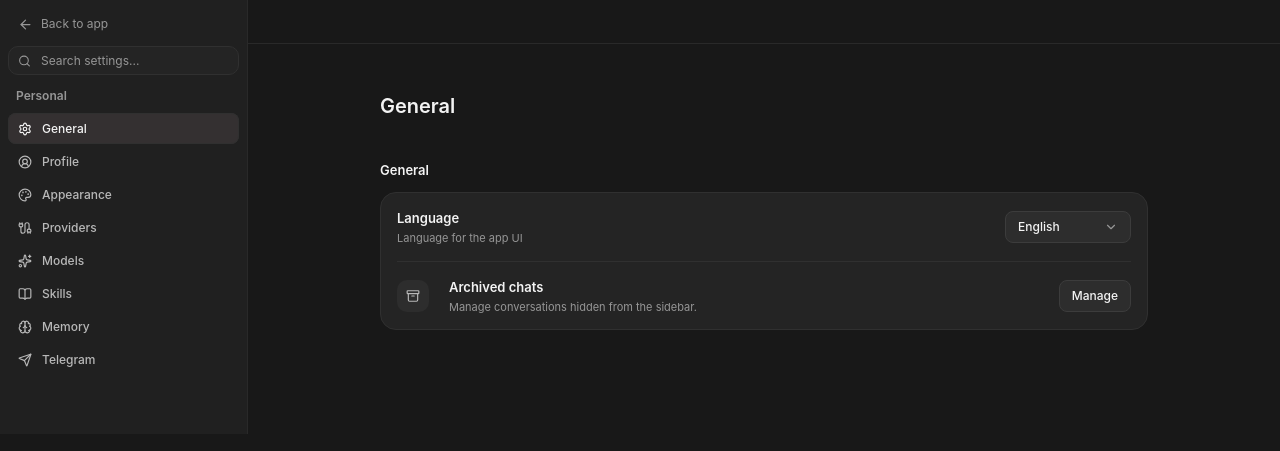
Test case: SettingsPage › applies Simplified Chinese immediately and persists it
Press the mouse on the button with aria-label "Choose UI language" at (1068, 227), box [1005, 211, 1131, 243]
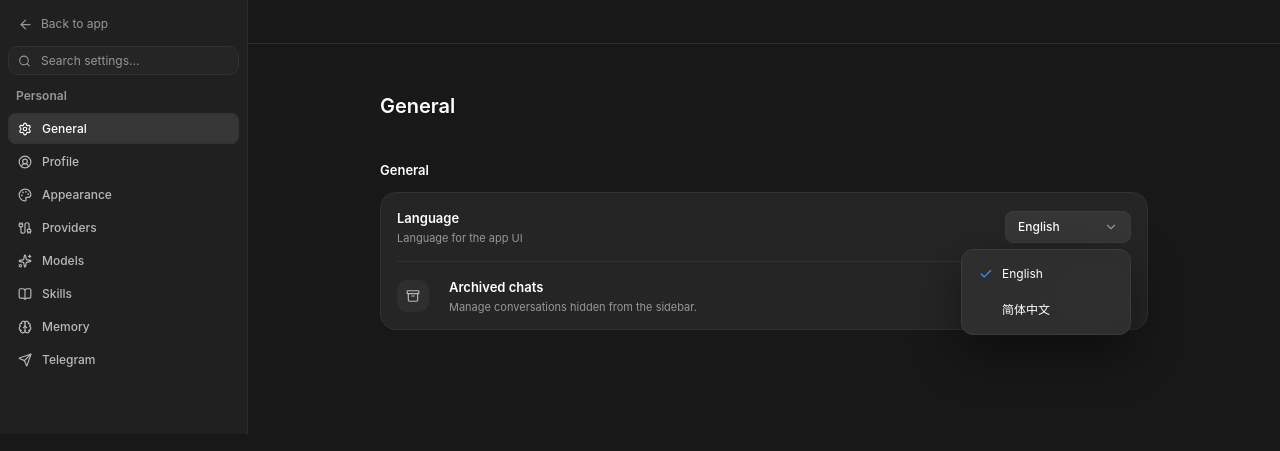
Click the menu item "简体中文" at (1026, 310), box [1002, 302, 1050, 317]
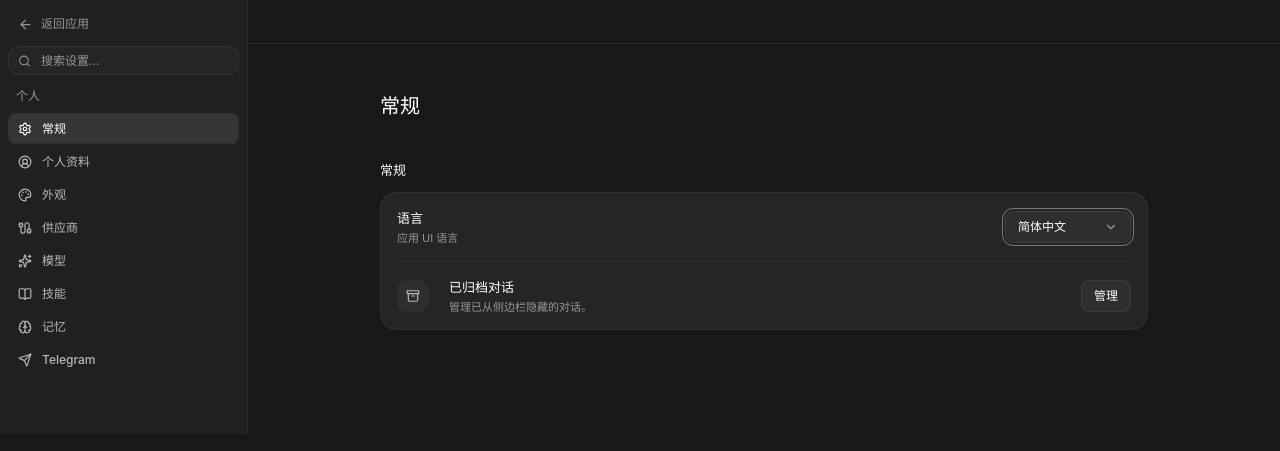
Expected: the 1st heading "常规" is shown, [380, 94, 420, 118]
Expected: the text "应用 UI 语言" is shown, [397, 231, 458, 245]
